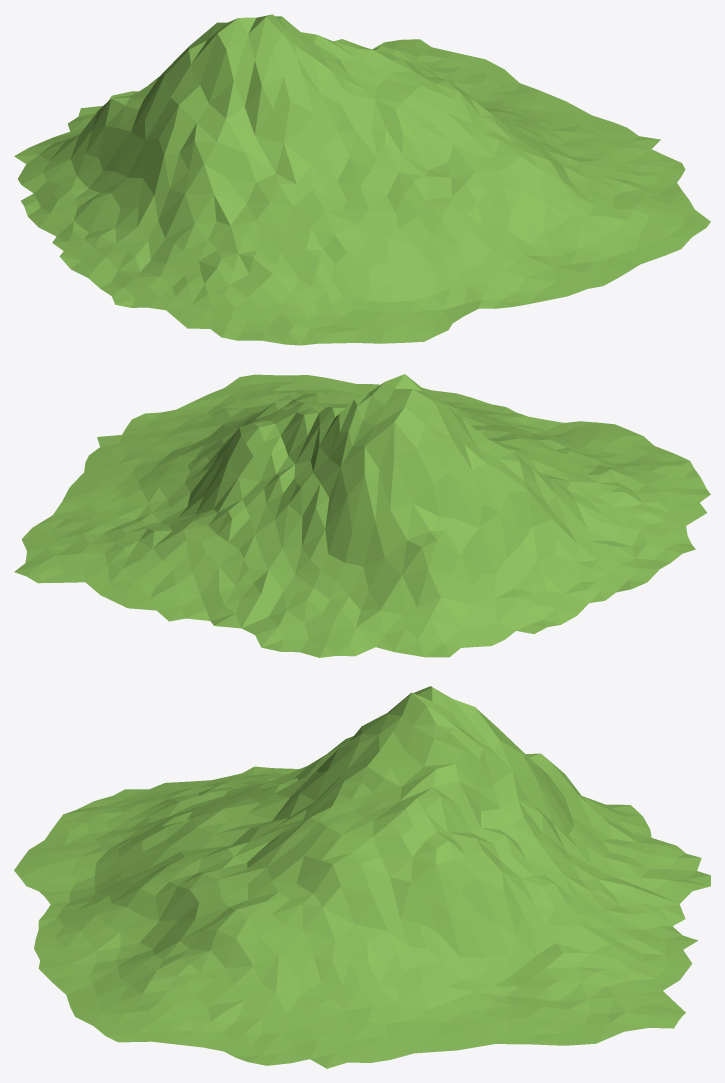
Rendered from MT_Mountain_L_a_29.fbx.
The picture shows the model from 3 angles, top to bottom: view 1: azimuth 30°, elevation 25°; view 2: azimuth 150°, elevation 25°; view 3: azimuth 270°, elevation 25°; orthographic projection. The views are drawn at different scales.
Parts seen in each view (by area): view 1: MT_Mountain_L_a_29; view 2: MT_Mountain_L_a_29; view 3: MT_Mountain_L_a_29.
Boxes of the visible parts, x1,y1,x2,y2 form: MT_Mountain_L_a_29: (14,14,710,345); MT_Mountain_L_a_29: (14,374,710,657); MT_Mountain_L_a_29: (14,686,710,1068).
Size of the model in its own units: 9023 by 2709 by 8827.
